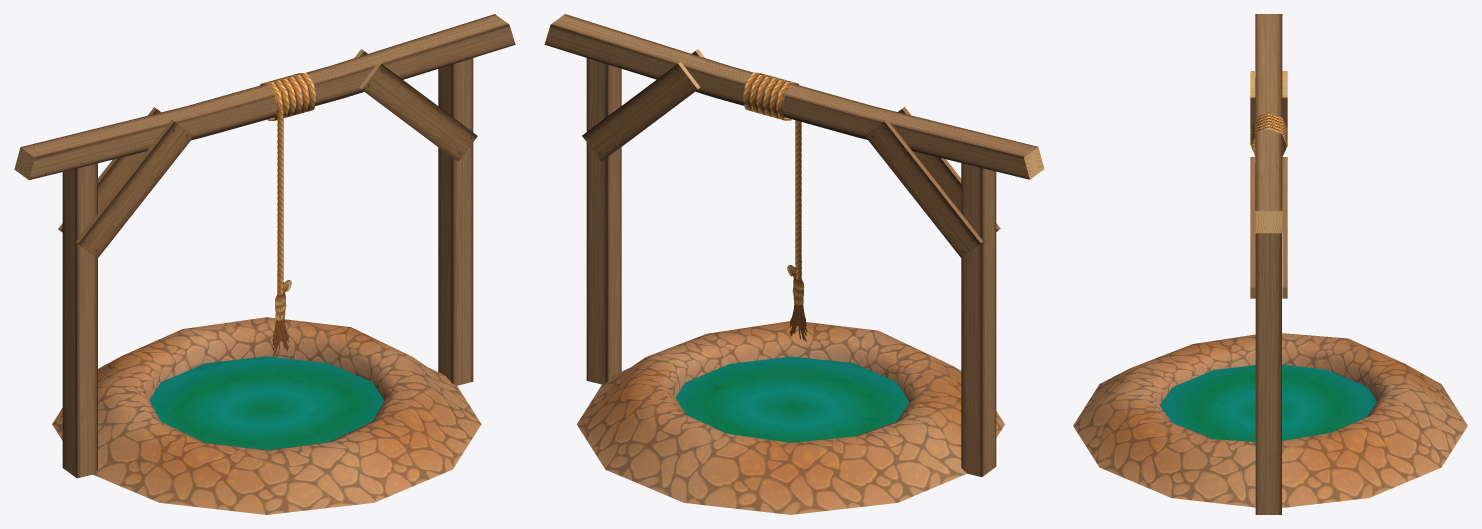
The model's file is Well_01.FBX.
3 views of the same model, side by side, from view 1: azimuth 30°, elevation 25°; view 2: azimuth 150°, elevation 25°; view 3: azimuth 270°, elevation 25° (orthographic). The views are drawn at different scales.
Visible parts, largest first — view 1: Girder, Body, Water, Rope; view 2: Girder, Body, Water, Rope; view 3: Body, Girder, Water, Rope.
Part boxes in pixels (x1,y1,x2,y2): Girder: (14,14,515,478); Body: (52,317,481,514); Water: (149,356,383,450); Rope: (260,73,316,357); Girder: (544,14,1044,477); Body: (577,321,1004,514); Water: (676,356,909,442); Rope: (742,72,807,342); Body: (1073,333,1467,507); Girder: (1250,14,1287,514); Water: (1160,364,1376,441); Rope: (1250,112,1287,156).
Size of the model in its own units: 4.71 by 3.22 by 3.6.
